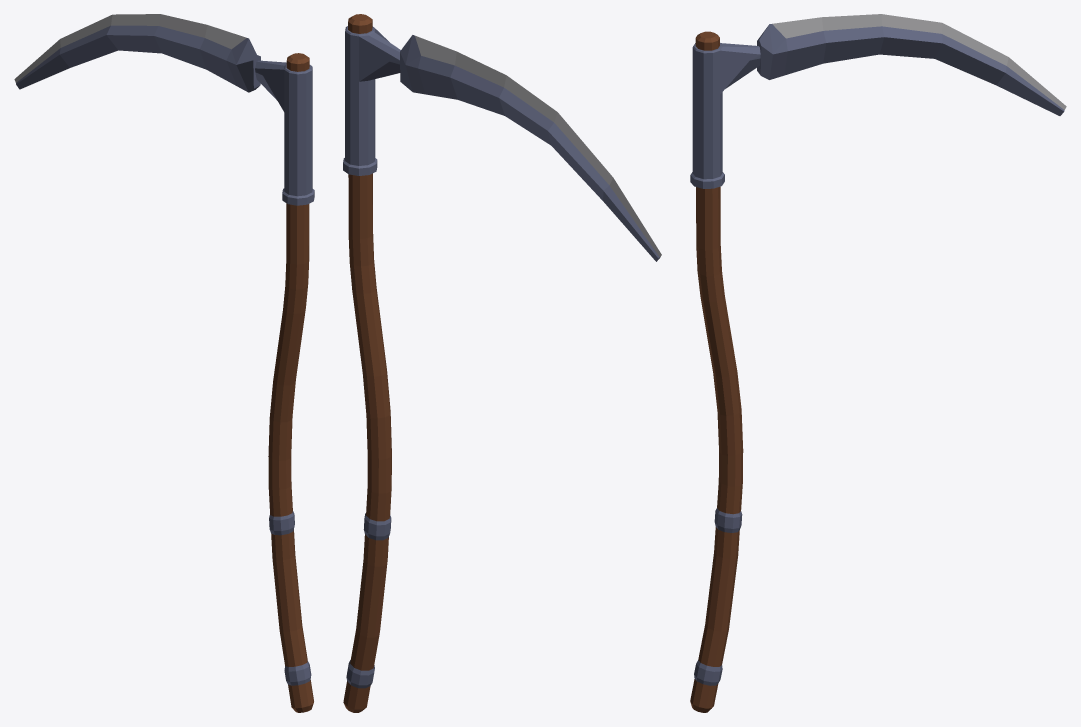
The model's file is scythe_iron.glb.
The picture shows the model from 3 angles, left to right: view 1: azimuth 30°, elevation 25°; view 2: azimuth 210°, elevation 25°; view 3: azimuth 270°, elevation 25°; orthographic projection. The views are drawn at different scales.
Parts seen in each view (by area): view 1: ScytheV12; view 2: ScytheV12; view 3: ScytheV12.
Part boxes in pixels (box(x1,y1,x2,y2)): ScytheV12: box(14, 14, 314, 712); ScytheV12: box(343, 14, 661, 712); ScytheV12: box(690, 14, 1066, 712).
Size of the model in its own units: 0.2202 by 1.11 by 0.5596.
3 materials, 3 textured.
